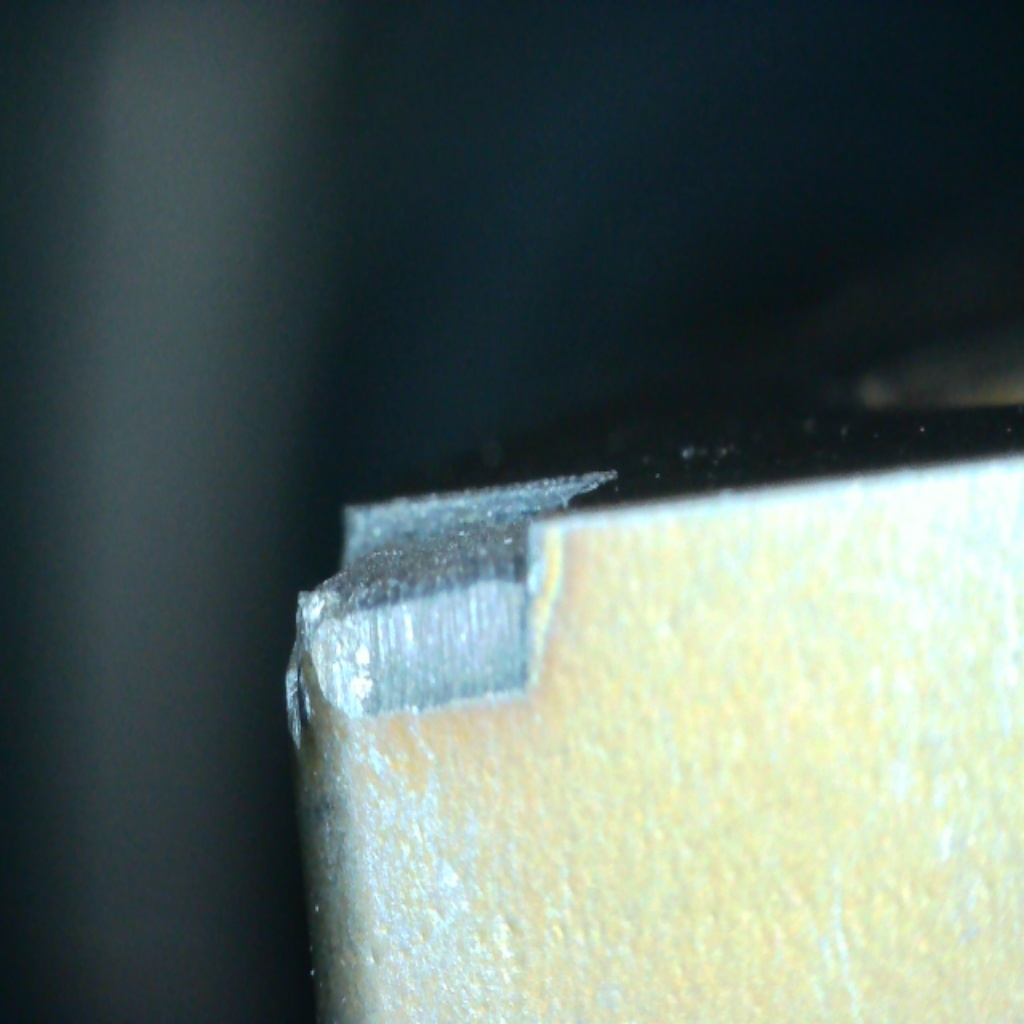flank_wear: (301, 600, 539, 712), (287, 590, 382, 743)
